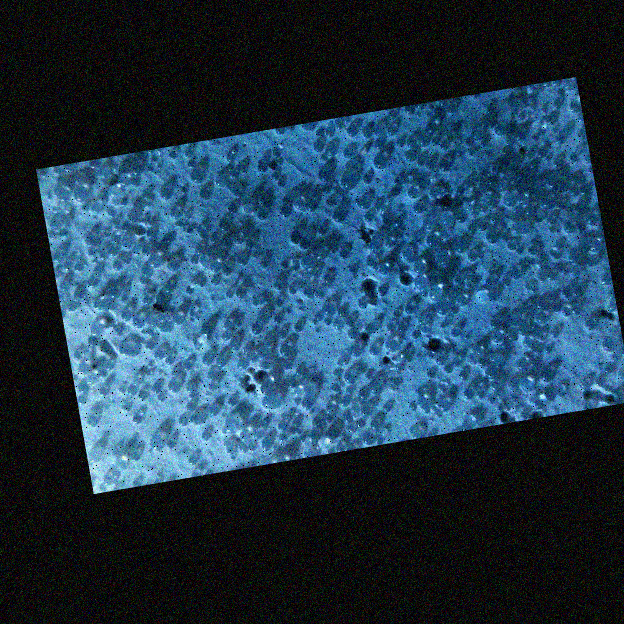GrassBeadSeg: (73, 194, 474, 417), (152, 299, 443, 449), (224, 249, 451, 425), (241, 178, 399, 338), (418, 256, 541, 428), (463, 196, 552, 427), (246, 203, 379, 332), (229, 367, 401, 460), (244, 255, 309, 446), (399, 156, 550, 237), (413, 202, 556, 280), (72, 229, 152, 360), (490, 291, 572, 392), (476, 155, 549, 259), (405, 302, 532, 360), (347, 274, 460, 338), (418, 135, 500, 223), (142, 240, 251, 304), (102, 444, 270, 485), (409, 348, 483, 438), (428, 284, 505, 365), (502, 318, 595, 385), (449, 274, 546, 338), (278, 375, 372, 441), (312, 212, 454, 255), (453, 277, 530, 350), (414, 175, 496, 243), (118, 427, 226, 476), (338, 379, 502, 411), (257, 127, 369, 172), (463, 336, 525, 415), (239, 190, 298, 270), (97, 316, 140, 424), (74, 174, 356, 190), (517, 278, 611, 325), (314, 312, 357, 413), (291, 357, 347, 434), (213, 374, 347, 406), (392, 140, 487, 185), (313, 328, 482, 353), (149, 295, 260, 333), (130, 413, 217, 460), (400, 113, 524, 142), (538, 344, 613, 391), (437, 99, 557, 128), (60, 171, 97, 264), (338, 351, 432, 387), (524, 283, 590, 334), (529, 187, 588, 244), (523, 137, 565, 216), (530, 305, 581, 368), (143, 174, 237, 207), (138, 226, 192, 283), (511, 186, 576, 233), (555, 323, 595, 396), (386, 385, 448, 432), (136, 414, 199, 460), (192, 259, 265, 297), (160, 319, 231, 358), (316, 173, 348, 259), (454, 199, 516, 242), (479, 349, 551, 386), (334, 173, 372, 243), (340, 388, 395, 436), (109, 384, 135, 485), (247, 401, 300, 450), (149, 418, 239, 446), (98, 174, 114, 327), (524, 149, 564, 210), (138, 421, 194, 464), (311, 240, 394, 269), (491, 184, 505, 355), (323, 306, 456, 324), (64, 154, 189, 173), (439, 321, 530, 347), (252, 384, 295, 438), (449, 124, 505, 165), (170, 207, 230, 245), (560, 306, 588, 387), (323, 126, 370, 174), (133, 213, 190, 251), (258, 361, 286, 438), (137, 189, 208, 219), (194, 244, 242, 288), (509, 254, 593, 278), (486, 203, 553, 233), (544, 159, 576, 220), (454, 246, 497, 291), (389, 108, 457, 136), (535, 316, 611, 341), (416, 321, 460, 362), (256, 208, 309, 242), (334, 122, 452, 137), (551, 79, 571, 167), (208, 406, 247, 451), (98, 311, 136, 355), (550, 334, 619, 358), (276, 154, 326, 187), (209, 193, 241, 243), (528, 136, 585, 164), (226, 419, 270, 455), (467, 132, 480, 253), (446, 330, 502, 358), (435, 211, 450, 314), (485, 192, 515, 243), (440, 230, 470, 281), (127, 211, 151, 274), (206, 324, 232, 380), (150, 384, 186, 424), (521, 314, 569, 344), (194, 265, 220, 319), (405, 128, 478, 147), (319, 115, 349, 161), (428, 188, 485, 212), (221, 152, 232, 275), (266, 364, 299, 405), (189, 261, 356, 269), (262, 271, 305, 302), (548, 294, 582, 333), (229, 224, 298, 243), (323, 124, 384, 145), (302, 140, 323, 201), (113, 207, 154, 238), (316, 212, 371, 235), (438, 380, 493, 403), (363, 211, 391, 256), (462, 204, 519, 226), (462, 387, 566, 399), (415, 160, 469, 183), (412, 206, 474, 226), (501, 279, 544, 307), (208, 335, 229, 391), (207, 396, 234, 439), (229, 416, 269, 445), (404, 126, 437, 161), (294, 427, 342, 451), (117, 151, 189, 167), (505, 221, 553, 245), (456, 274, 493, 305), (518, 252, 536, 315), (358, 390, 424, 407), (485, 269, 554, 285), (364, 285, 387, 333), (348, 271, 355, 428), (403, 294, 464, 312), (234, 191, 333, 202), (487, 267, 519, 301), (128, 310, 154, 351), (384, 122, 437, 142), (573, 287, 615, 312), (97, 225, 127, 260), (100, 172, 119, 226), (237, 147, 278, 172), (182, 360, 216, 390), (548, 153, 577, 188), (322, 275, 364, 299), (387, 363, 401, 435), (484, 93, 534, 113), (534, 209, 596, 225), (456, 212, 476, 261), (476, 337, 515, 362), (505, 128, 565, 144), (141, 244, 151, 340), (185, 286, 258, 299), (120, 339, 152, 368), (387, 124, 428, 146), (77, 389, 137, 404), (187, 172, 237, 190), (324, 129, 357, 156), (357, 300, 394, 324), (173, 285, 208, 310), (404, 354, 428, 390), (491, 120, 557, 133), (545, 100, 578, 125), (205, 239, 253, 256), (349, 328, 379, 355), (478, 340, 509, 366), (508, 270, 575, 282), (476, 290, 501, 322), (567, 256, 609, 275), (485, 372, 518, 396), (324, 225, 348, 258), (495, 180, 527, 204), (486, 366, 519, 389), (302, 371, 338, 392), (166, 438, 195, 464), (208, 304, 290, 313), (410, 293, 427, 336), (457, 370, 483, 398), (429, 248, 443, 300), (300, 390, 333, 412), (468, 213, 478, 285), (181, 203, 236, 216), (232, 317, 240, 405), (79, 351, 106, 377), (549, 244, 599, 258), (302, 272, 330, 297), (404, 101, 454, 115), (344, 386, 368, 415), (424, 140, 448, 169), (195, 265, 228, 286), (286, 377, 300, 426), (260, 425, 287, 450), (273, 297, 300, 322), (516, 311, 544, 335), (389, 358, 410, 390), (414, 355, 433, 390), (395, 139, 403, 222), (322, 413, 363, 429), (573, 226, 599, 251), (521, 378, 549, 401), (221, 331, 250, 353), (290, 269, 306, 308), (536, 280, 560, 306), (172, 430, 208, 447), (528, 166, 579, 178), (527, 308, 559, 327), (278, 263, 297, 295), (338, 366, 364, 389), (217, 275, 244, 297), (235, 450, 309, 458), (110, 164, 194, 171), (499, 348, 538, 363), (121, 309, 179, 319), (415, 154, 449, 171), (198, 233, 216, 265), (530, 271, 566, 287), (434, 352, 477, 365), (474, 389, 517, 402), (377, 203, 401, 226), (322, 126, 372, 137), (414, 391, 440, 412), (391, 315, 405, 354), (348, 393, 364, 427), (500, 209, 517, 241), (291, 417, 351, 426), (568, 105, 586, 135), (513, 131, 533, 158), (301, 398, 349, 409), (516, 358, 532, 391), (572, 302, 616, 314), (513, 137, 546, 153), (455, 190, 477, 214), (92, 235, 117, 256), (378, 237, 392, 274), (562, 218, 596, 233), (424, 159, 437, 198), (560, 252, 571, 298), (311, 406, 334, 428), (364, 324, 427, 332), (279, 412, 301, 434), (209, 258, 246, 271), (518, 188, 578, 196), (371, 326, 396, 345), (520, 300, 545, 319), (278, 420, 321, 431), (438, 370, 451, 406), (141, 266, 149, 324), (505, 238, 534, 254), (346, 124, 384, 136), (359, 406, 378, 430), (298, 188, 317, 212), (503, 396, 533, 411), (378, 287, 428, 296), (122, 245, 148, 262), (407, 401, 447, 412), (551, 84, 573, 104), (522, 112, 537, 141), (425, 369, 467, 379), (171, 282, 181, 324), (511, 152, 518, 212), (219, 207, 237, 230), (466, 351, 476, 392), (422, 384, 437, 411), (353, 138, 384, 151), (275, 172, 288, 203), (369, 409, 390, 428), (418, 140, 437, 161), (280, 314, 302, 332), (293, 385, 310, 408), (131, 397, 146, 423), (426, 363, 452, 378), (569, 251, 595, 266), (93, 260, 119, 275), (449, 327, 459, 366), (554, 200, 580, 215), (432, 137, 471, 147), (543, 331, 591, 339), (301, 371, 339, 381), (140, 329, 150, 367), (94, 249, 107, 278), (289, 416, 304, 441), (476, 213, 498, 230), (238, 437, 261, 453), (503, 403, 526, 419), (190, 236, 206, 259), (164, 355, 190, 369), (258, 324, 286, 337), (280, 258, 294, 284), (132, 253, 146, 279), (387, 104, 412, 118), (216, 354, 247, 365), (535, 105, 546, 136), (106, 206, 118, 234), (412, 315, 426, 339), (239, 321, 249, 354), (438, 324, 468, 335), (386, 127, 413, 139), (87, 386, 95, 426), (455, 201, 470, 222), (511, 158, 561, 164), (497, 399, 534, 407), (602, 363, 623, 377), (438, 145, 511, 149), (177, 409, 194, 426), (77, 377, 96, 392), (153, 349, 172, 364), (258, 258, 286, 268), (180, 187, 190, 215), (286, 189, 317, 198), (185, 402, 198, 423), (87, 266, 100, 287), (526, 94, 547, 107), (112, 253, 128, 270), (571, 193, 587, 210), (593, 370, 611, 385), (347, 405, 357, 432), (516, 364, 549, 372), (508, 375, 551, 381), (505, 328, 537, 336), (118, 193, 150, 201), (279, 279, 296, 294), (85, 373, 94, 401), (287, 427, 305, 441), (327, 413, 352, 423), (267, 205, 289, 216), (304, 286, 324, 298), (398, 324, 405, 358), (489, 317, 502, 335), (466, 220, 484, 233), (309, 271, 322, 289), (486, 183, 497, 204), (220, 237, 243, 247), (175, 155, 194, 167), (415, 396, 429, 412), (146, 165, 153, 196), (136, 390, 160, 399), (226, 151, 244, 163), (579, 379, 603, 388), (610, 360, 622, 378), (412, 233, 447, 239), (327, 242, 346, 253), (335, 432, 346, 451), (336, 146, 353, 158), (201, 232, 218, 244), (159, 317, 193, 323), (392, 310, 456, 313), (433, 99, 445, 115), (202, 274, 219, 285), (396, 325, 427, 331), (120, 199, 151, 205), (332, 208, 345, 222), (373, 155, 386, 169), (300, 254, 313, 268), (190, 168, 203, 182), (149, 253, 162, 267), (108, 184, 121, 198), (57, 187, 70, 201), (167, 378, 180, 392), (184, 380, 197, 394), (278, 343, 291, 357), (318, 435, 331, 449), (331, 316, 344, 330), (257, 310, 270, 324), (201, 351, 214, 365), (425, 232, 438, 246), (368, 238, 381, 252), (358, 195, 371, 209), (413, 260, 426, 274), (272, 278, 281, 298), (87, 246, 105, 256), (509, 154, 545, 159), (445, 127, 457, 142), (315, 127, 332, 137), (407, 185, 420, 198), (422, 215, 435, 228), (215, 173, 228, 186), (167, 258, 180, 271), (121, 234, 134, 247), (159, 186, 172, 199), (90, 200, 103, 213), (77, 361, 90, 374), (116, 455, 129, 468), (262, 395, 275, 408), (257, 345, 270, 358), (322, 302, 335, 315), (384, 338, 397, 351), (343, 369, 356, 382), (361, 431, 374, 444), (229, 337, 242, 350), (259, 381, 272, 394), (88, 448, 101, 461), (89, 322, 102, 335), (402, 247, 415, 260), (414, 275, 427, 288), (318, 168, 330, 182), (119, 173, 131, 187), (273, 313, 284, 328), (294, 368, 309, 379), (373, 402, 391, 411), (251, 296, 269, 305), (546, 179, 578, 184), (476, 201, 496, 209), (466, 139, 486, 147), (305, 198, 317, 211), (239, 428, 251, 441), (369, 380, 381, 393), (349, 343, 361, 356), (290, 197, 302, 210), (380, 255, 394, 266), (486, 106, 493, 128), (362, 396, 379, 405), (438, 104, 457, 112), (185, 226, 203, 234), (463, 273, 472, 289), (271, 146, 280, 161), (408, 404, 430, 410), (163, 153, 174, 165), (264, 160, 277, 170), (550, 106, 560, 119), (53, 168, 71, 175), (270, 173, 284, 182), (310, 319, 319, 333), (331, 364, 342, 375), (299, 237, 309, 249), (222, 430, 229, 447), (85, 234, 94, 247), (111, 233, 120, 246), (507, 246, 536, 250), (153, 327, 164, 337), (236, 254, 246, 265), (431, 404, 440, 416), (164, 281, 173, 292), (99, 385, 108, 396), (248, 351, 257, 362), (337, 305, 346, 316), (73, 289, 82, 300), (109, 288, 118, 299), (48, 228, 57, 239), (63, 260, 72, 271), (66, 300, 75, 311), (87, 335, 96, 346), (336, 359, 348, 367), (112, 223, 128, 229), (103, 360, 112, 370), (139, 365, 148, 375), (281, 358, 290, 368), (345, 316, 354, 326), (52, 251, 61, 261), (73, 261, 82, 271), (93, 299, 102, 309), (80, 202, 89, 212), (58, 281, 67, 291), (156, 392, 165, 402), (111, 199, 126, 205), (559, 268, 574, 274), (458, 182, 468, 191), (339, 116, 349, 125), (473, 344, 482, 354), (188, 314, 199, 322), (544, 338, 550, 352), (110, 448, 119, 457), (238, 358, 246, 368), (117, 384, 125, 394), (145, 326, 153, 336), (535, 300, 543, 310), (501, 145, 509, 155), (89, 405, 97, 414), (114, 327, 122, 336), (121, 402, 129, 411), (97, 483, 105, 492), (170, 368, 179, 376), (150, 156, 156, 168), (535, 331, 543, 340), (159, 318, 164, 332), (378, 428, 386, 436), (321, 185, 329, 193), (364, 369, 371, 378), (282, 413, 291, 420), (111, 469, 118, 477), (394, 230, 401, 238), (156, 159, 162, 168), (314, 317, 331, 320), (529, 284, 536, 291), (325, 200, 332, 206), (196, 231, 206, 235), (194, 345, 199, 350)
